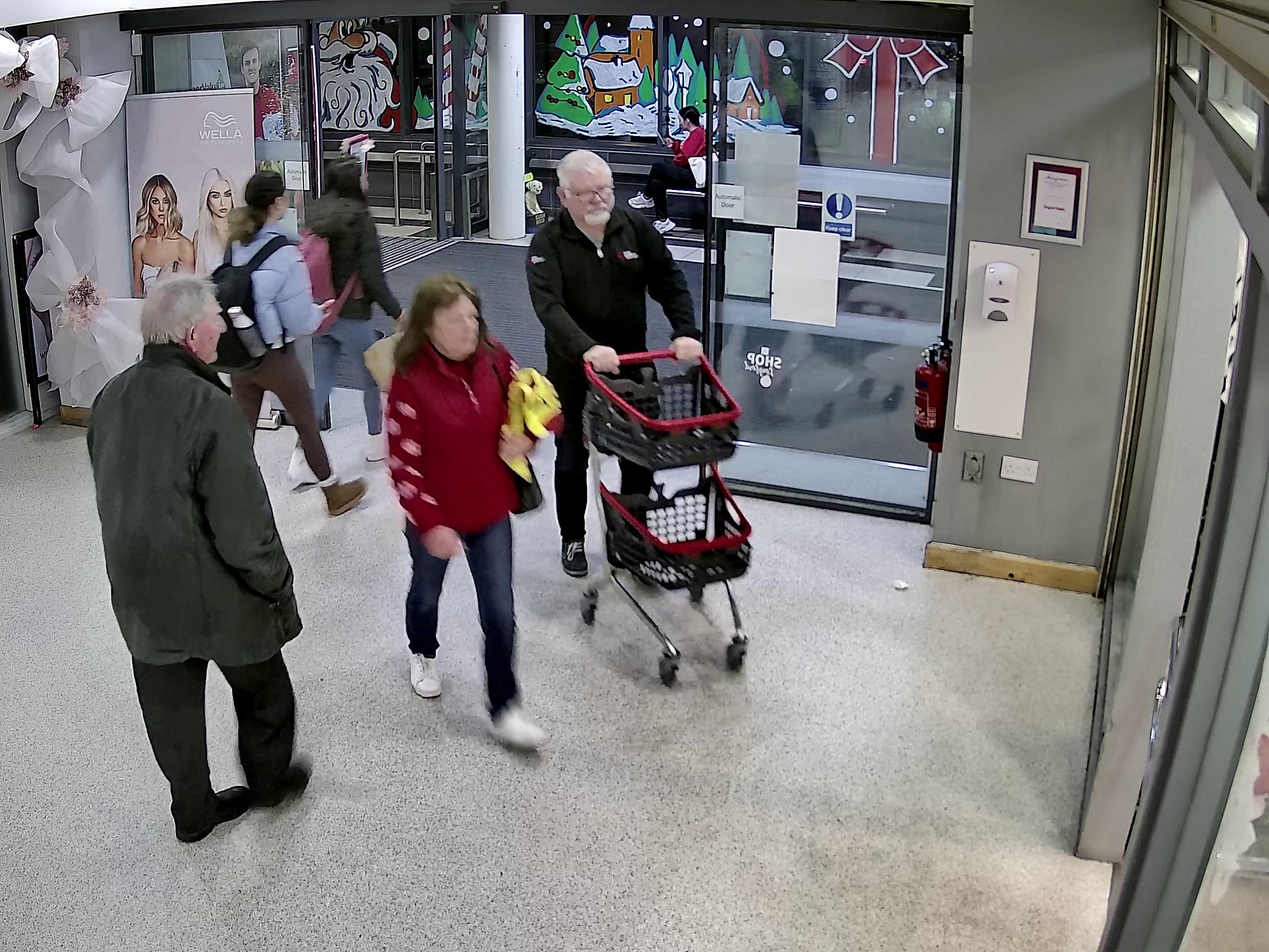backpack-or-handbag: (191, 263, 269, 379), (295, 234, 343, 337)
empty-shopping-bags: (496, 365, 565, 510)
empty-trolly: (584, 342, 753, 688)
person: (384, 278, 545, 750), (526, 150, 703, 579), (221, 171, 367, 517), (299, 157, 405, 461)
person-with-backpack-handbag: (191, 170, 367, 517), (295, 157, 403, 457)
person-with-empty-basket-trolly: (526, 148, 754, 685)
person-with-empty-shopping-bag-s-: (383, 277, 563, 747)
